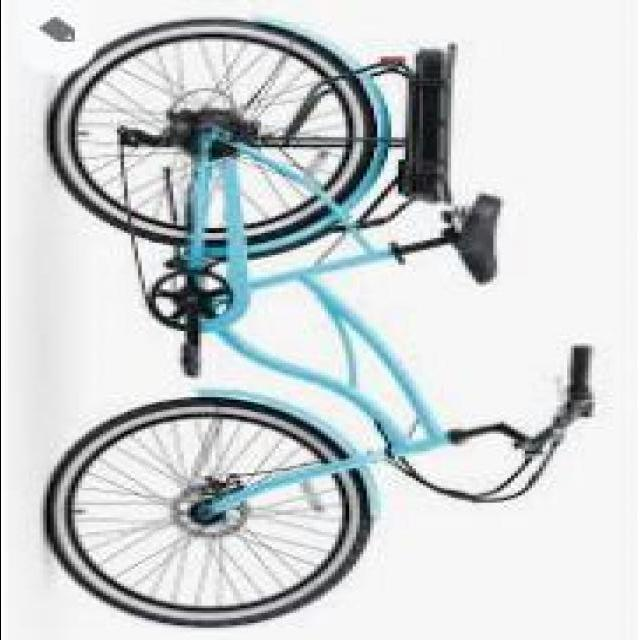bicycle: (43, 30, 599, 602)
